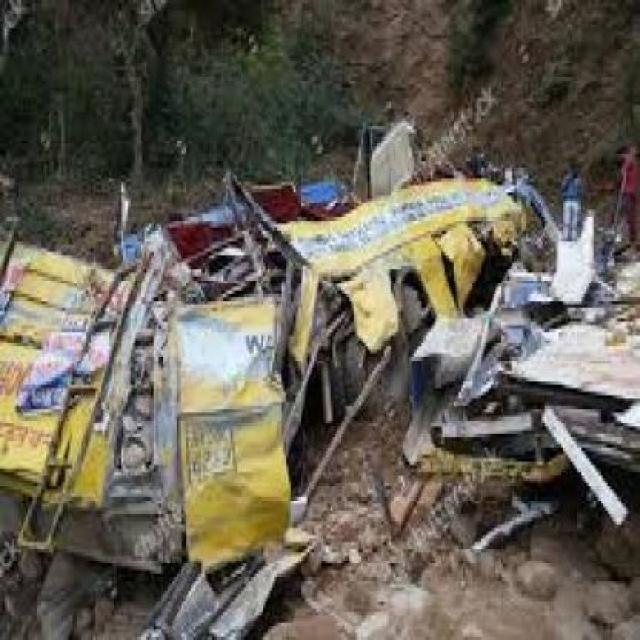accident: (0, 163, 640, 597)
